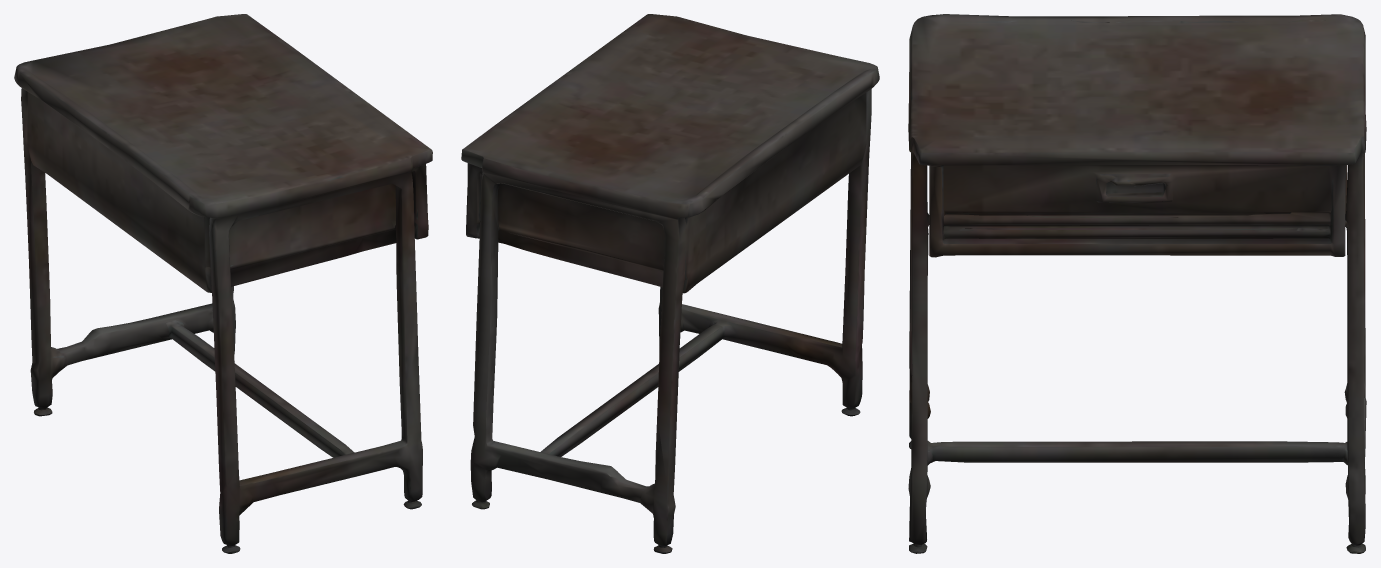
File: worn-iron-desk-v002.glb
3 views of the same model, side by side, from view 1: azimuth 30°, elevation 25°; view 2: azimuth 150°, elevation 25°; view 3: azimuth 270°, elevation 25° (orthographic). The views are drawn at different scales.
Visible parts, largest first — view 1: worn-iron-desk; view 2: worn-iron-desk; view 3: worn-iron-desk.
Part boxes in pixels (x1=…): worn-iron-desk: x1=14, y1=14, x2=432, y2=553; worn-iron-desk: x1=461, y1=14, x2=879, y2=553; worn-iron-desk: x1=908, y1=14, x2=1366, y2=553.
Size of the model in its own units: 0.5586 by 0.7993 by 0.7975.
Materials: 1 (1 with a texture image).
